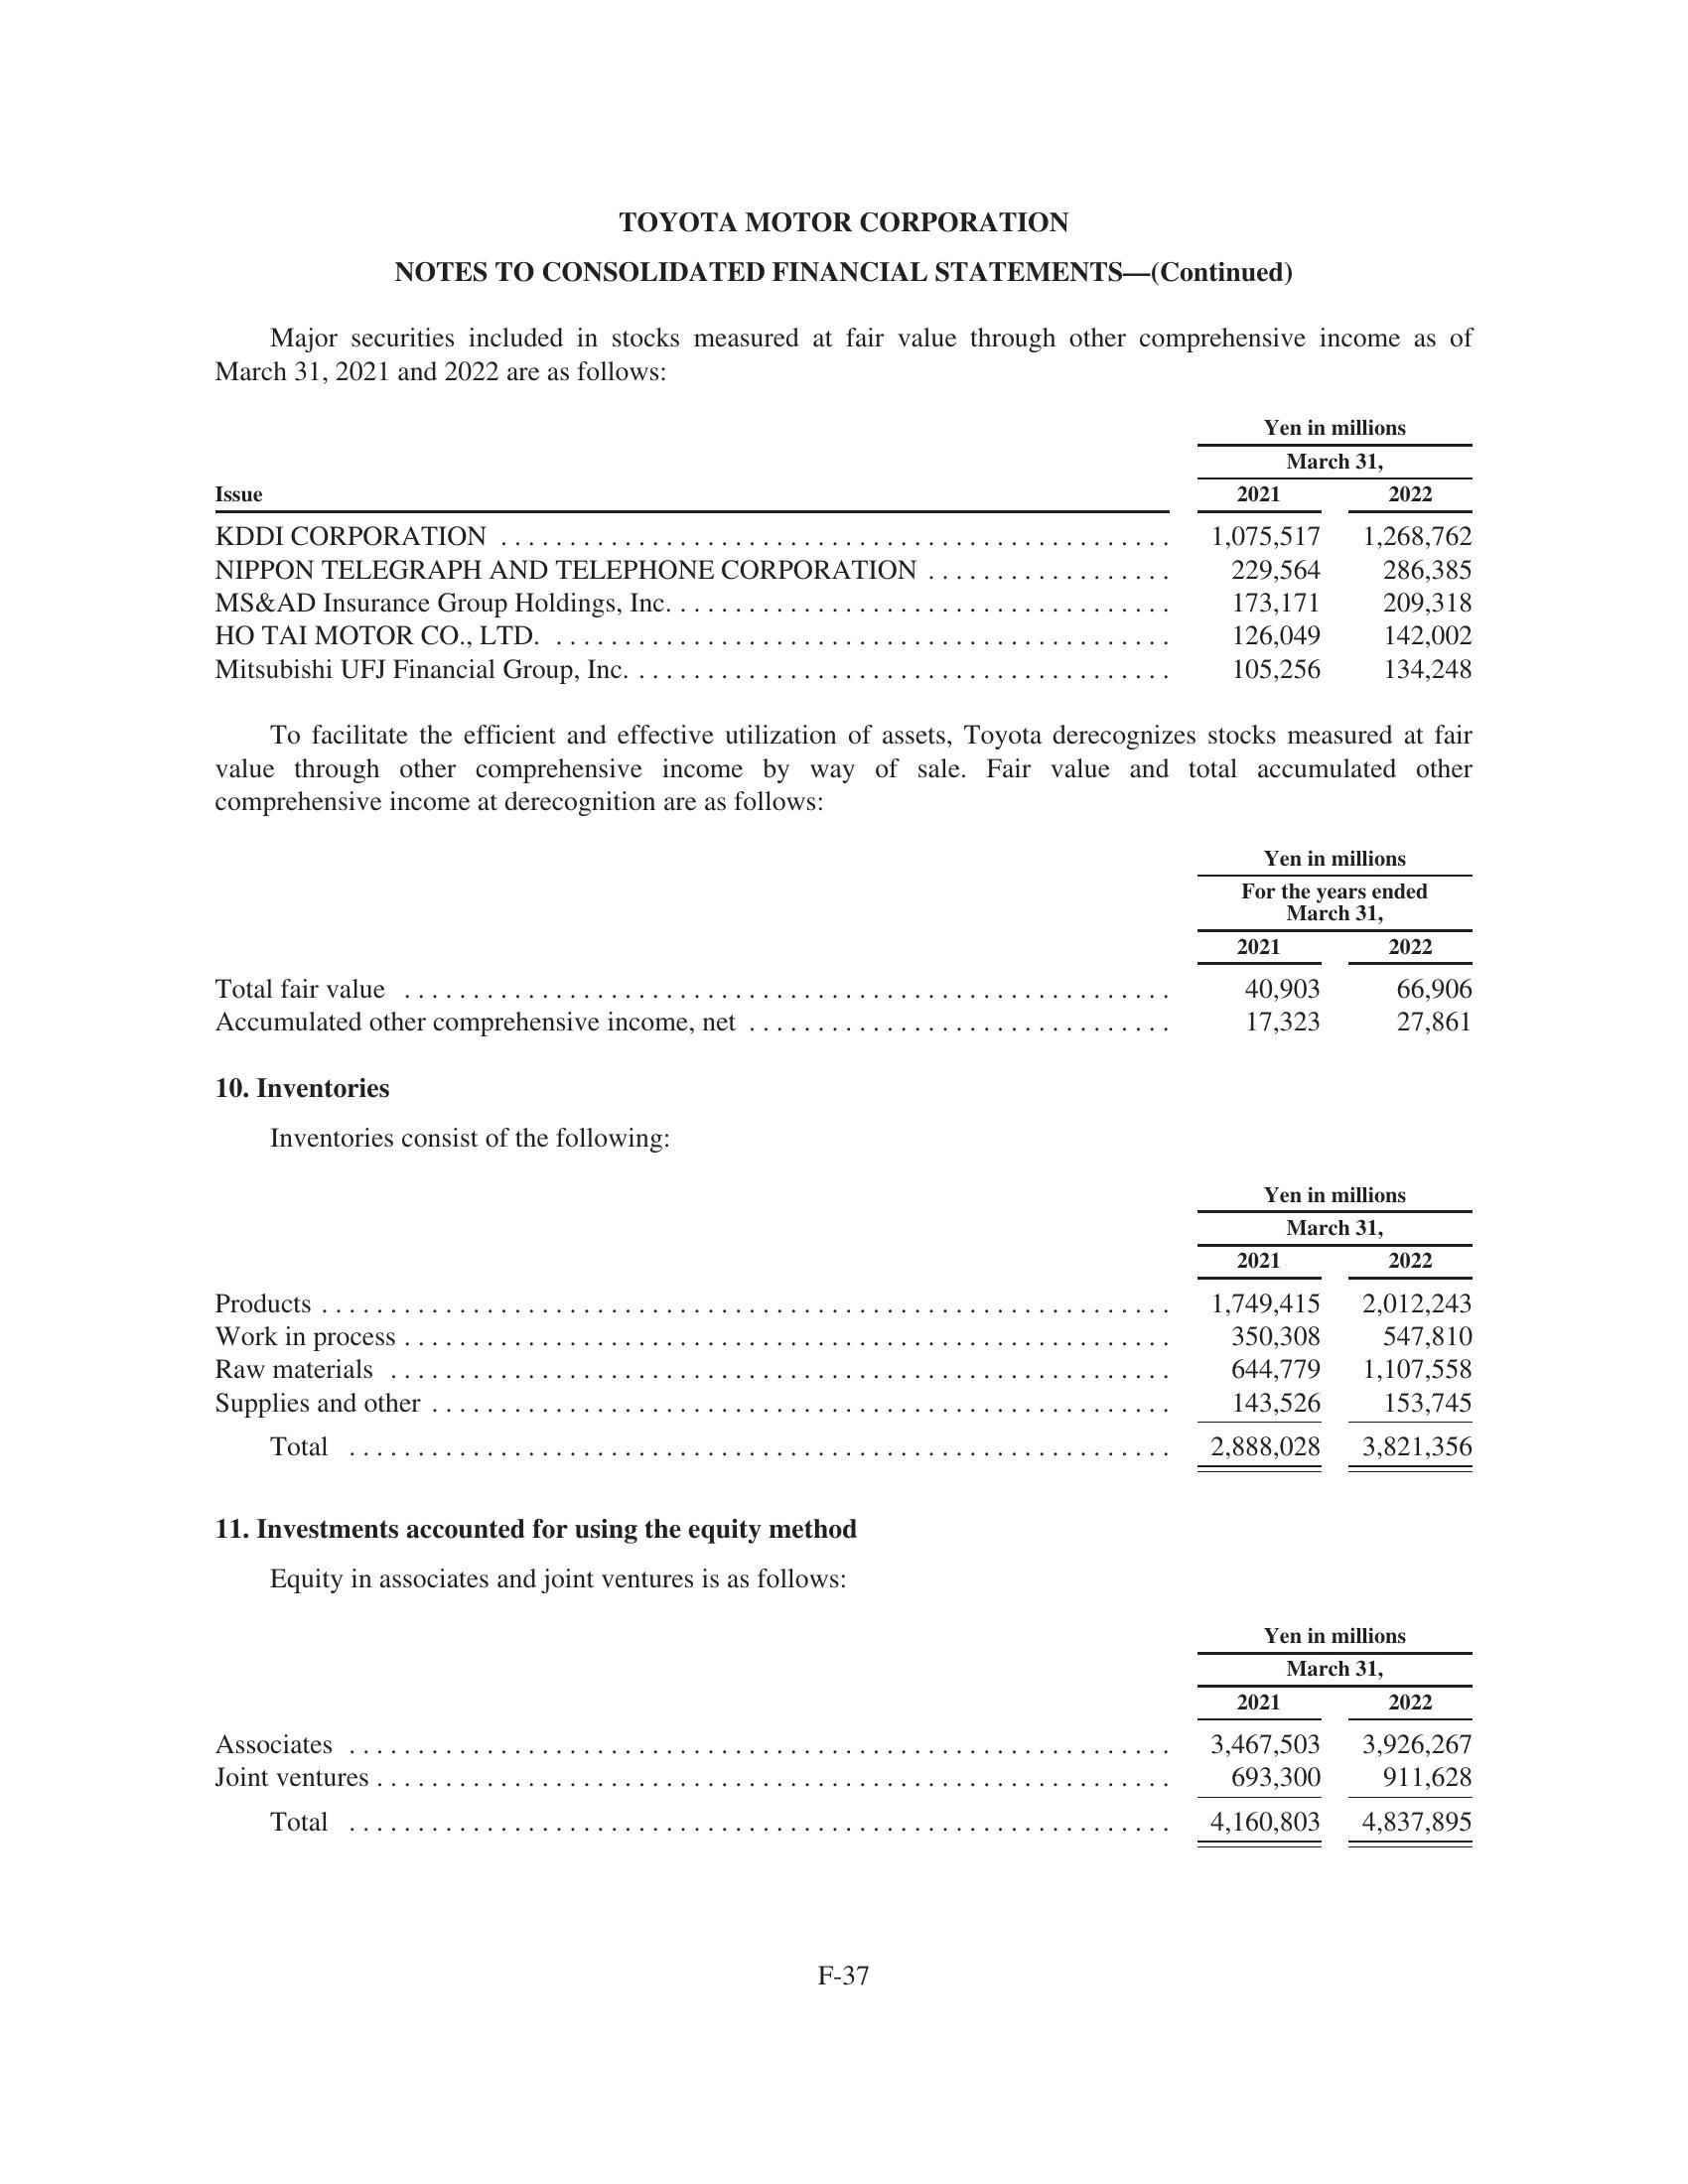Footer: (0, 1950, 1688, 2184)
Header: (0, 0, 1688, 188)
Table: (163, 1158, 1491, 1507), (151, 401, 1500, 684), (145, 1618, 1495, 1874), (167, 835, 1488, 1060)
